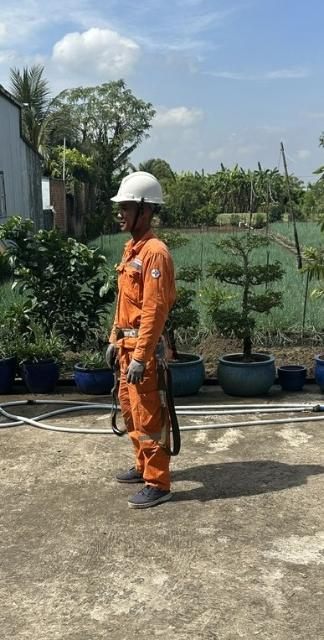gloves: (98, 338, 127, 371), (122, 357, 154, 386)
harness: (106, 318, 189, 356)
helmet: (100, 156, 180, 217)
shoes: (118, 479, 176, 512), (104, 459, 158, 492)
